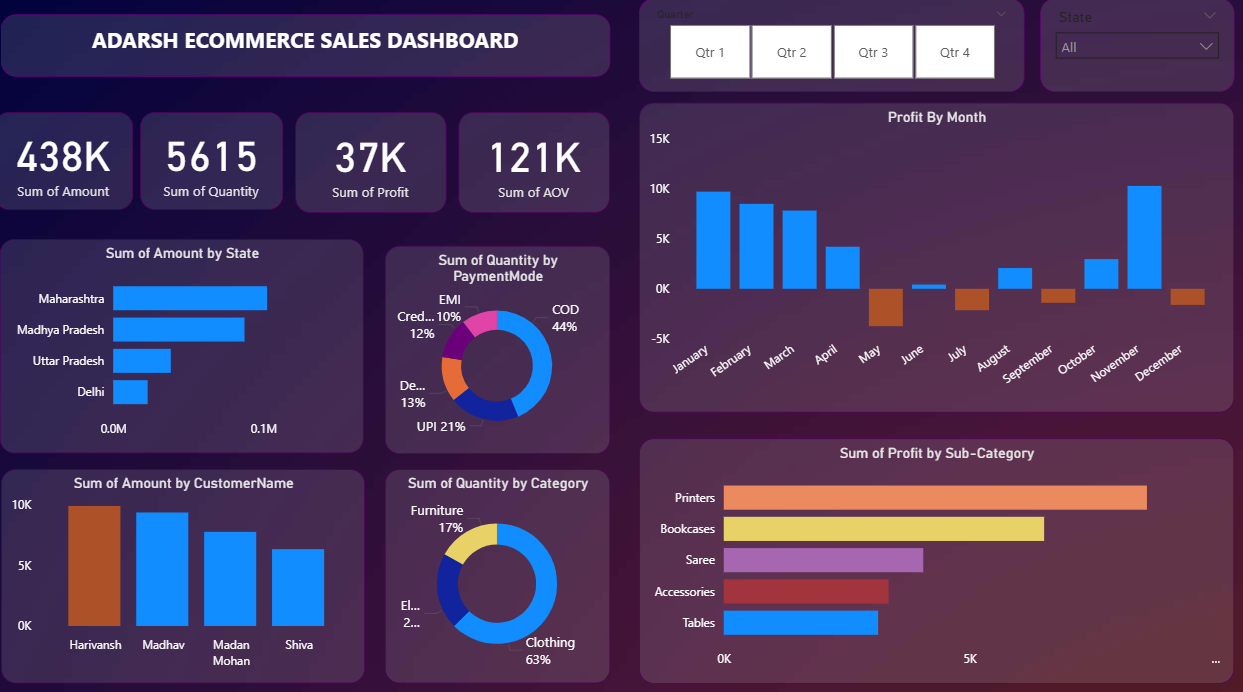

This screenshot's page, from the dashboard's own definition file:
{"tool":"powerbi","page":{"name":"Page 1","canvas":[1280,720],"ordinal":0},"visuals":[{"type":"textbox","box":[15.7,25.7,614.3,62.9],"z":0},{"type":"clusteredColumnChart","title":" Profit By Month","fields":{"Category":["Orders.Order Date.Variation.Date Hierarchy.Month"],"Y":["Details.Profit"]},"box":[660,114.3,600,312.9],"z":1000},{"type":"barChart","fields":{"Category":["Details.Sub-Category"],"Y":["Details.Profit"]},"box":[660,452.9,600,247.1],"z":2000},{"type":"donutChart","fields":{"Category":["Details.Category"],"Y":["Details.Quantity"]},"box":[402.9,484.3,227.1,215.7],"z":3000},{"type":"donutChart","fields":{"Y":["Details.Quantity"],"Category":["Details.PaymentMode"]},"box":[402.9,258.6,227.1,210],"z":4000},{"type":"card","fields":{"Values":["Details.Amount"]},"box":[10,124.4,140,98.9],"z":5000},{"type":"card","fields":{"Values":["Details.Quantity"]},"box":[157.1,124.3,144.3,98.6],"z":6000},{"type":"card","fields":{"Values":["Details.Profit"]},"box":[312.9,124.3,152.9,101.4],"z":7000},{"type":"card","fields":{"Values":["Details.AOV"]},"box":[477.1,124.3,152.9,101.4],"z":8000},{"type":"barChart","fields":{"Y":["Details.Amount"],"Category":["Orders.State"]},"box":[14.3,252.9,367.1,215.7],"z":9000},{"type":"columnChart","fields":{"Category":["Orders.CustomerName"],"Y":["Details.Amount"]},"box":[15.7,484.3,367.1,215.7],"z":10000},{"type":"slicer","fields":{"Values":["Orders.Order Date.Variation.Date Hierarchy.Quarter"]},"box":[660,10,388.6,94.3],"z":10001},{"type":"slicer","fields":{"Values":["Orders.State"]},"box":[1064.3,10,195.7,94.3],"z":10002}]}

Visuals, with their boxes in screenshot pixels (x1, y1, x2, y2), scaled from the page's 1280x720 canvas onto the 1243x692 screenshot:
textbox: 15/25/612/85
" Profit By Month" clusteredColumnChart: 641/110/1224/411
barChart - Details.Sub-Category x Details.Profit: 641/435/1224/673
donutChart - Details.Category x Details.Quantity: 391/465/612/673
donutChart - Details.Quantity x Details.PaymentMode: 391/249/612/450
card - Details.Amount: 10/120/146/215
card - Details.Quantity: 153/119/293/214
card - Details.Profit: 304/119/452/217
card - Details.AOV: 463/119/612/217
barChart - Details.Amount x Orders.State: 14/243/370/450
columnChart - Orders.CustomerName x Details.Amount: 15/465/372/673
slicer - Orders.Order Date.Variation.Date Hierarchy.Quarter: 641/10/1018/100
slicer - Orders.State: 1034/10/1224/100
